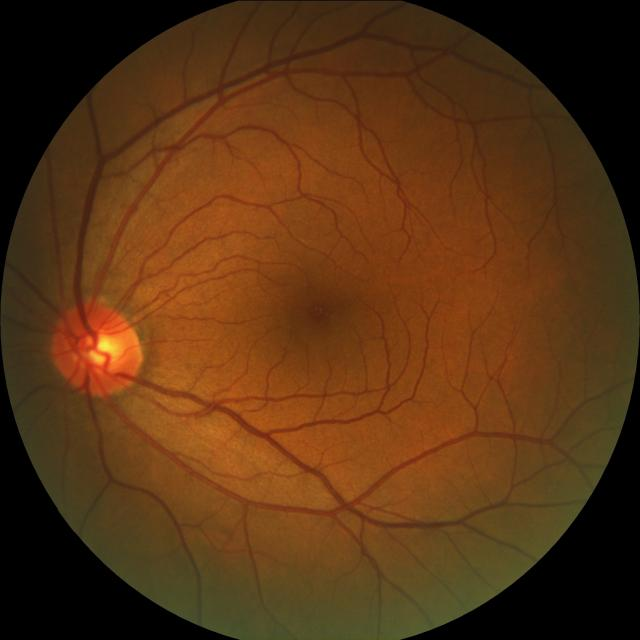OC: (79, 328, 121, 373)
OD: (54, 300, 144, 397)
